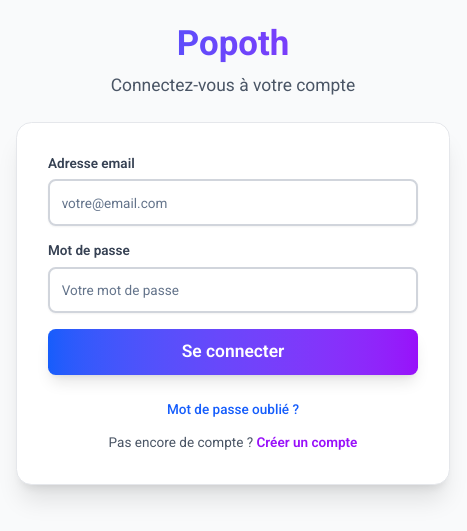
Test: connexion page › shows inline email error on invalid format
This screenshot has width=467, height=531.
In the field labelled "Adresse email": {"x": 233, "y": 203} left=48, top=179, right=418, bottom=226, type "not-an-email"
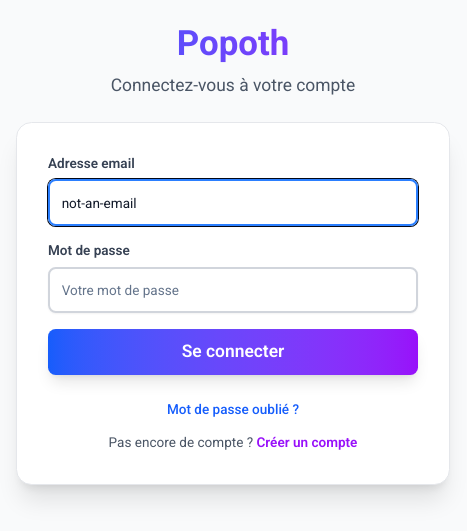
In the password field labelled "Mot de passe": {"x": 233, "y": 290} left=48, top=267, right=418, bottom=313, type "goodpass1"
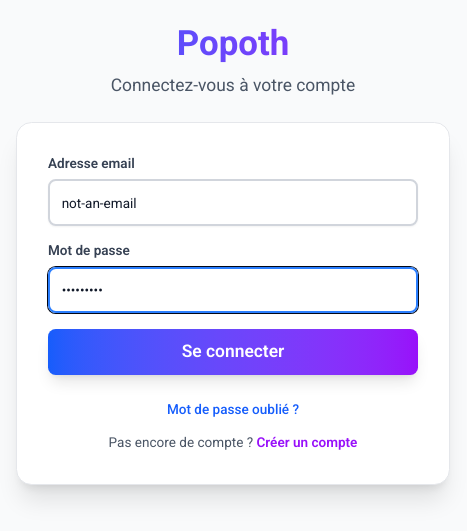
Click the button "Se connecter": {"x": 233, "y": 352} left=48, top=329, right=418, bottom=375
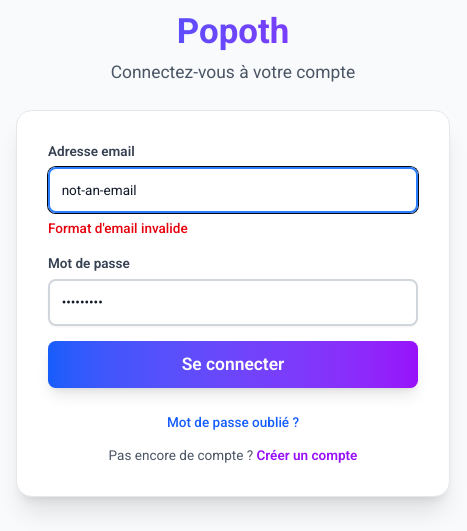
Result: the text "Format d'email invalide" is shown at left=48, top=220, right=188, bottom=236
